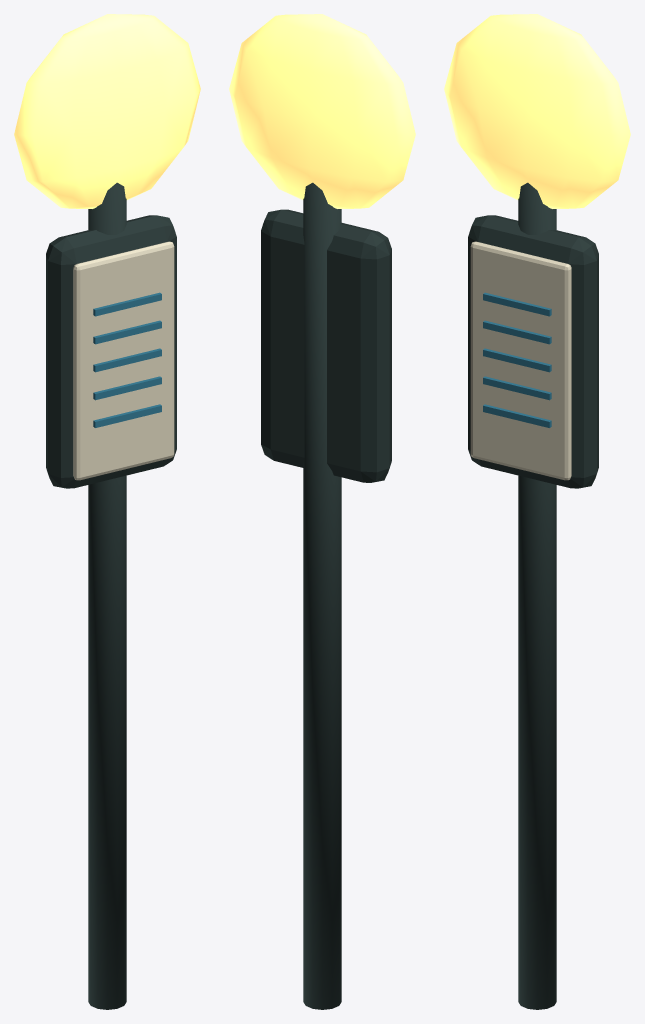
The model's file is StopSign.glb.
3 views of the same model, side by side, from view 1: azimuth 30°, elevation 25°; view 2: azimuth 150°, elevation 25°; view 3: azimuth 330°, elevation 25° (orthographic).
Visible parts, largest first — view 1: RK_StopSign_RK_Iron, RK_StopSign_RK_Glow, RK_StopSign_RK_CanvasCream, RK_StopSign_RK_Blue; view 2: RK_StopSign_RK_Iron, RK_StopSign_RK_Glow; view 3: RK_StopSign_RK_Iron, RK_StopSign_RK_Glow, RK_StopSign_RK_CanvasCream, RK_StopSign_RK_Blue.
Part boxes in pixels (x1,y1,x2,y2): RK_StopSign_RK_Iron: [46, 182, 176, 1009]; RK_StopSign_RK_Glow: [14, 14, 200, 208]; RK_StopSign_RK_CanvasCream: [73, 241, 174, 480]; RK_StopSign_RK_Blue: [93, 292, 161, 427]; RK_StopSign_RK_Iron: [261, 182, 391, 1009]; RK_StopSign_RK_Glow: [229, 14, 415, 208]; RK_StopSign_RK_Iron: [468, 182, 598, 1009]; RK_StopSign_RK_Glow: [444, 14, 630, 208]; RK_StopSign_RK_CanvasCream: [470, 241, 571, 480]; RK_StopSign_RK_Blue: [483, 292, 551, 427].
Bounding box in the file's own units: 0.56 × 2.83 × 0.18.
